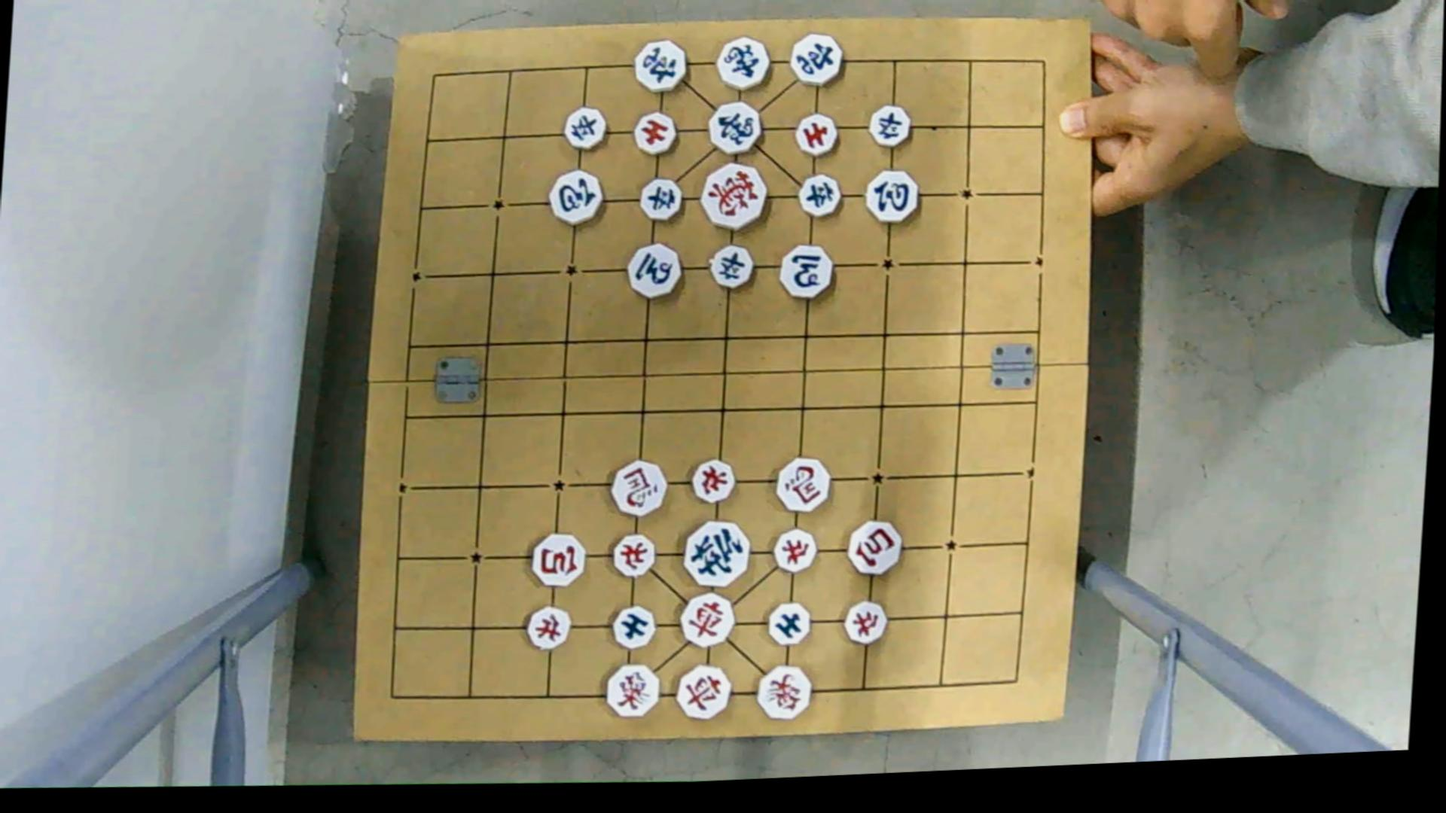cha_green: (630, 42, 692, 94), (786, 34, 847, 86)
cha_red: (673, 665, 736, 720), (679, 593, 736, 644)
jol_green: (796, 172, 844, 221), (709, 242, 755, 289), (636, 178, 685, 221), (865, 103, 913, 146), (559, 108, 607, 151)
jol_red: (839, 599, 889, 645), (688, 459, 740, 501), (610, 535, 657, 577), (770, 530, 818, 571), (525, 607, 572, 648)
ma_green: (620, 242, 680, 297), (773, 243, 834, 295)
ma_red: (608, 461, 667, 516), (773, 457, 831, 511)
po_green: (862, 168, 923, 222), (544, 171, 603, 221)
po_red: (843, 521, 905, 574), (528, 534, 590, 585)
sa_green: (763, 601, 812, 644), (611, 606, 657, 647)
sa_red: (628, 114, 679, 157), (791, 115, 840, 158)
sang_green: (702, 101, 767, 157), (715, 38, 776, 91)
sang_red: (752, 666, 816, 720), (602, 663, 664, 717)
wang_green: (682, 524, 752, 587)
wang_red: (695, 164, 770, 226)
